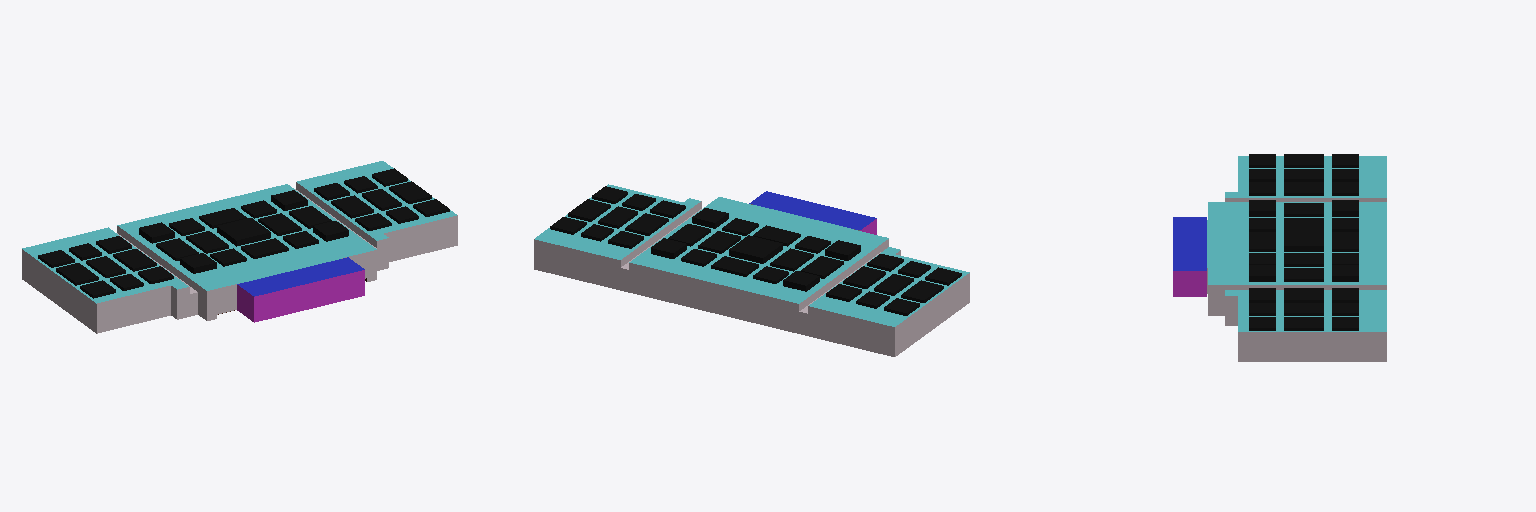
The model's file is baps-better-solid.obj.
3 renders of one model, left to right at view 1: azimuth 30°, elevation 25°; view 2: azimuth 150°, elevation 25°; view 3: azimuth 270°, elevation 25°, orthographic.
Visible parts, largest first — view 1: main-floor_Bapsextended.075; view 2: main-floor_Bapsextended.075; view 3: main-floor_Bapsextended.075.
Boxes of the visible parts, x1=… form: main-floor_Bapsextended.075: x1=22, y1=161, x2=457, y2=333; main-floor_Bapsextended.075: x1=534, y1=184, x2=969, y2=356; main-floor_Bapsextended.075: x1=1173, y1=154, x2=1386, y2=361.
Bounding box in the file's own units: 74.52 × 7.14 × 38.37.